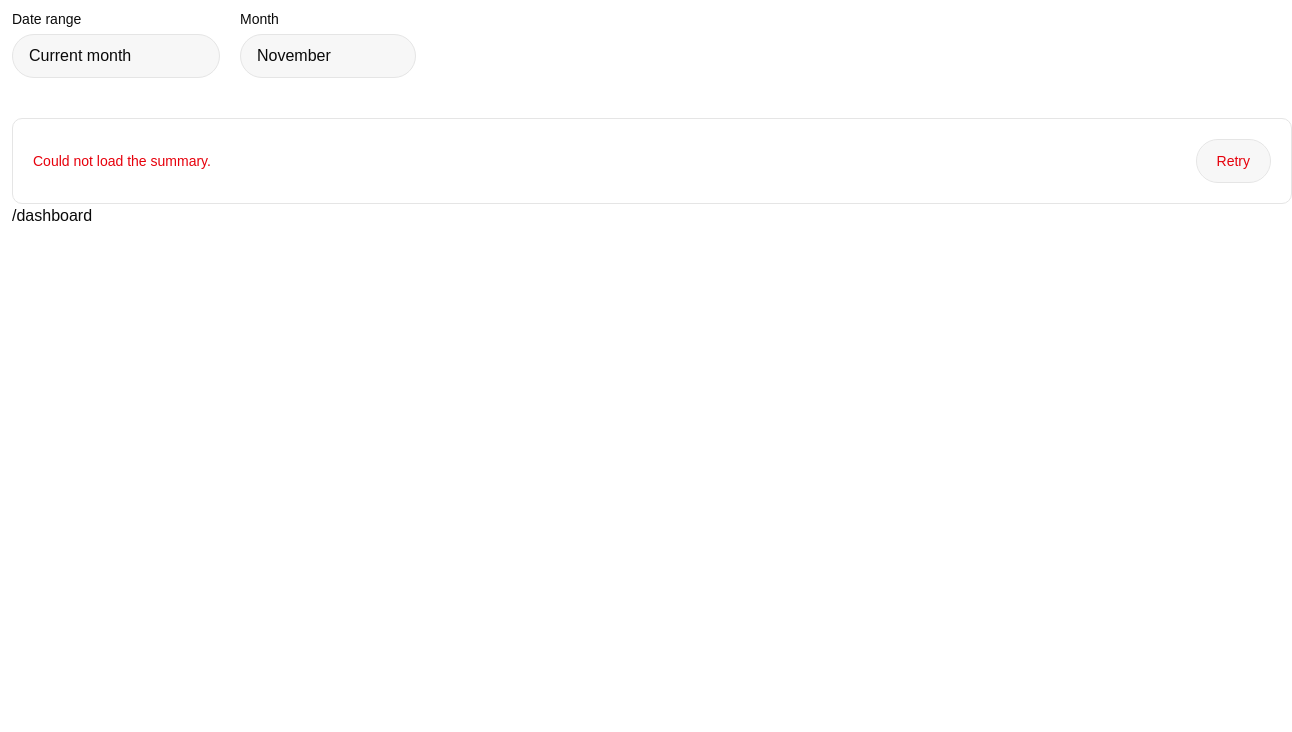
Scenario: Dashboard › a failed load shows an error with Retry, and Retry recovers
Expected: the text "Could not load the summary." is shown, [33, 151, 211, 171]
Click the button "Retry".
click(1233, 161)  # box [1196, 139, 1271, 183]
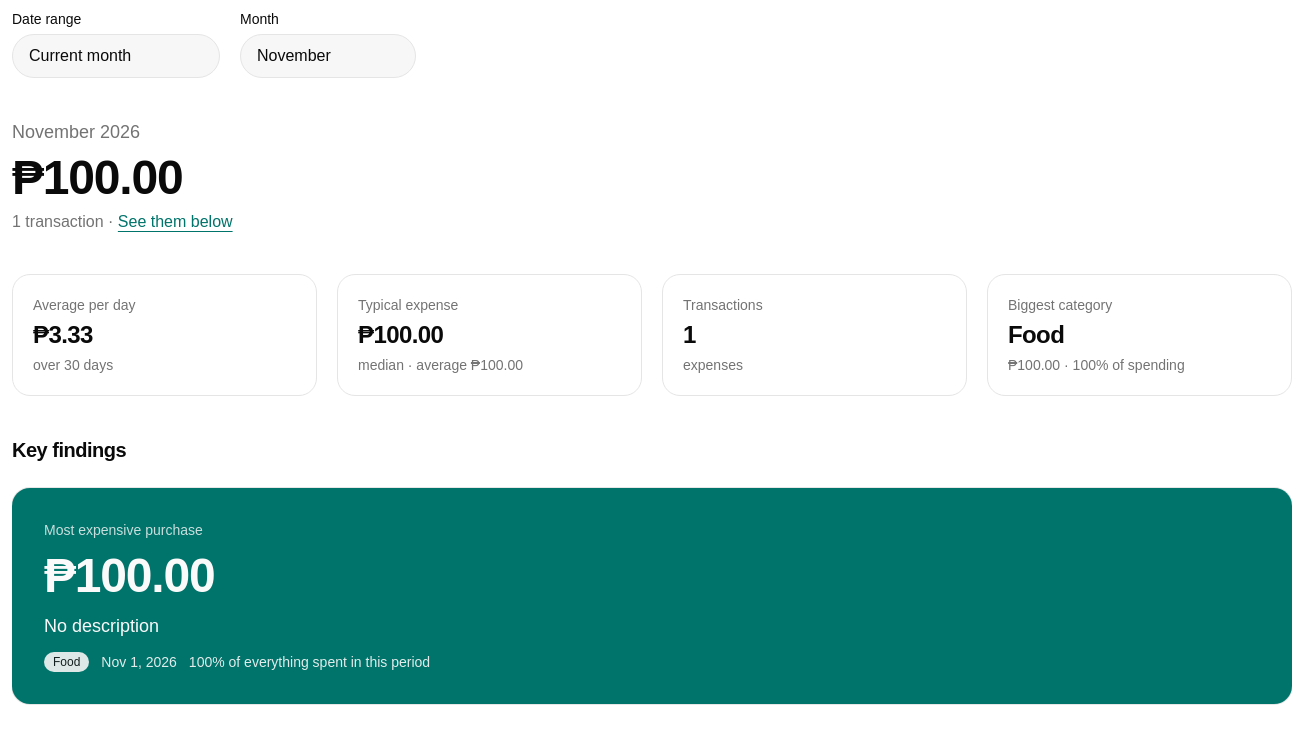
Expected: the text with test id "net-total" reads "₱100.00", [12, 151, 182, 204]
